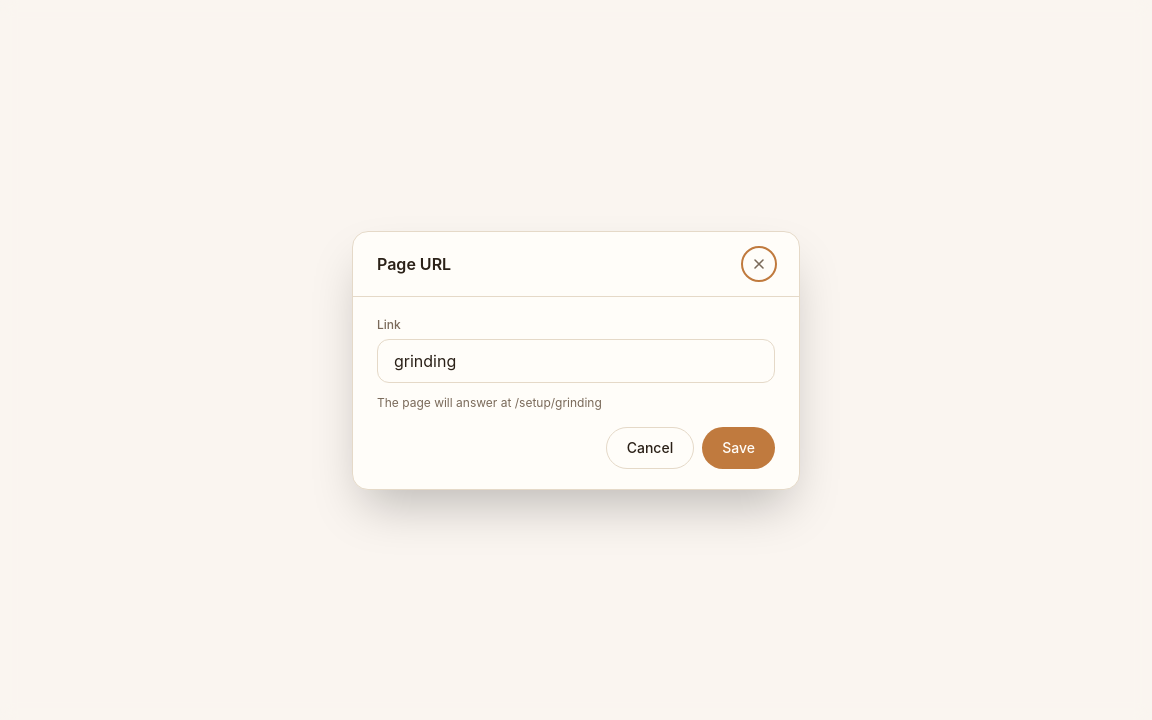
Test case: ChangePageUrlDialog › reports any other failure generically
Replace the text in the field labelled "Link" with "brewing" at (576, 360), box x1=377 y1=338 x2=775 y2=382
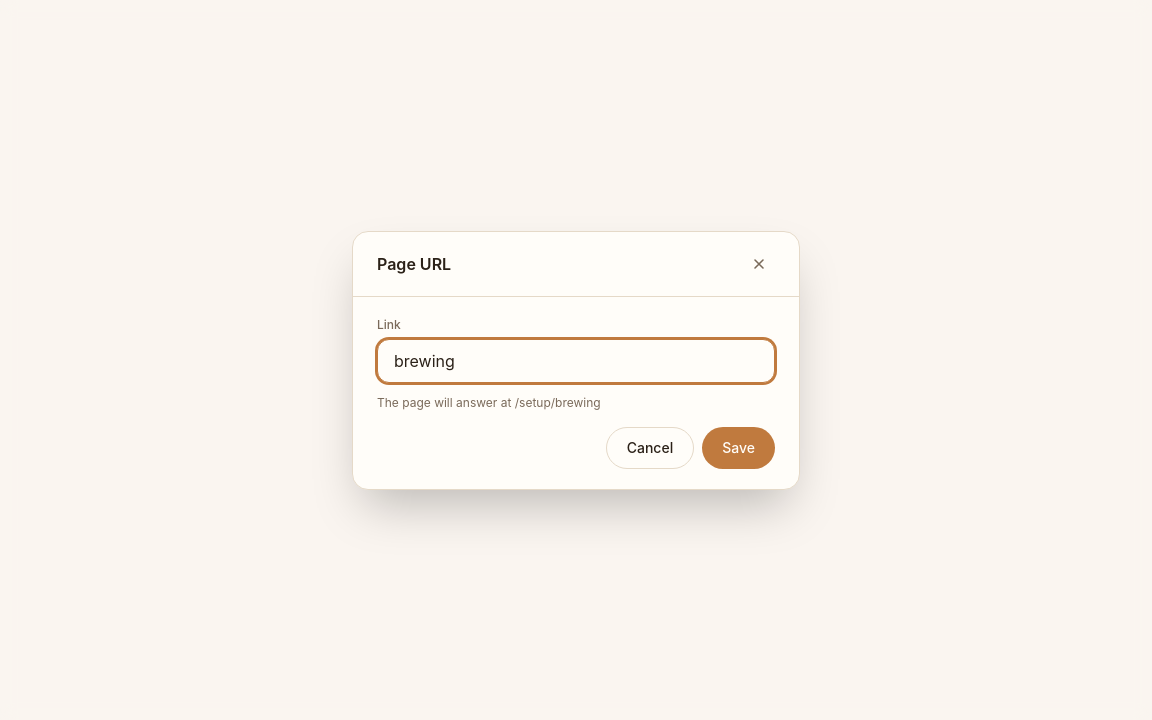
Click the button "Save" at (739, 448), box x1=702 y1=426 x2=775 y2=468
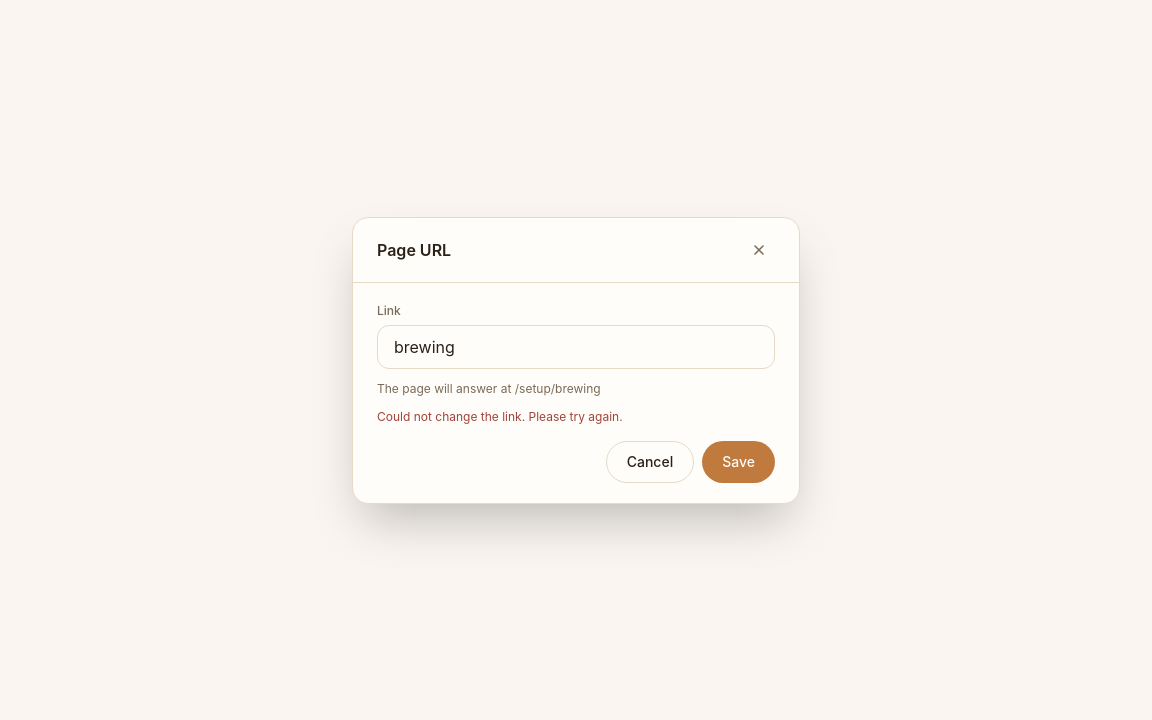
Check: the message reads "Could not change the link. Please try again.", box x1=377 y1=408 x2=623 y2=424
